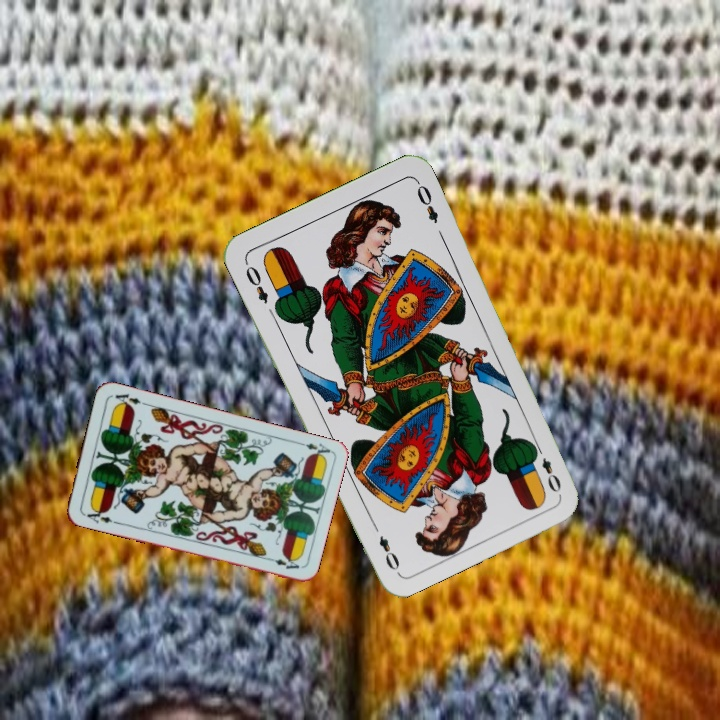EA: (293, 437, 333, 461), (79, 504, 119, 526)
EO: (530, 440, 564, 495), (241, 261, 271, 307)
